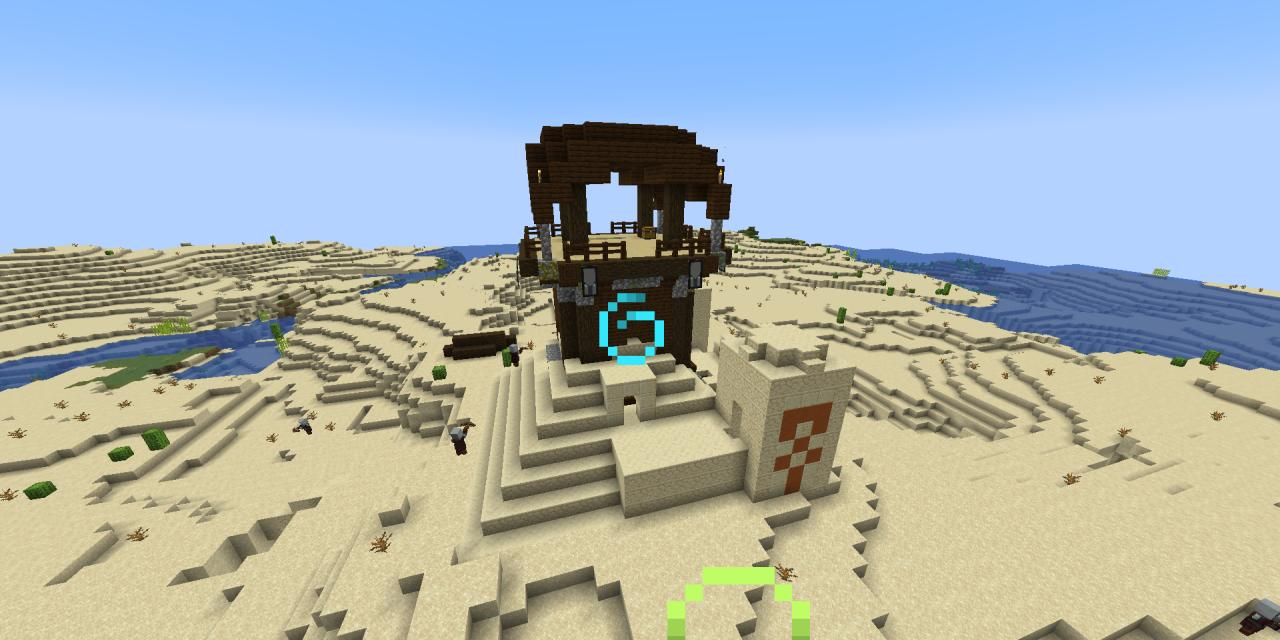desert temple: (447, 332, 861, 532)
pillager outpost: (508, 107, 744, 382)
